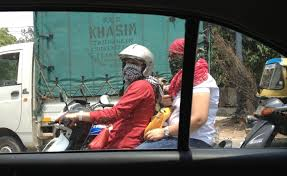helmet: (118, 42, 158, 85)
